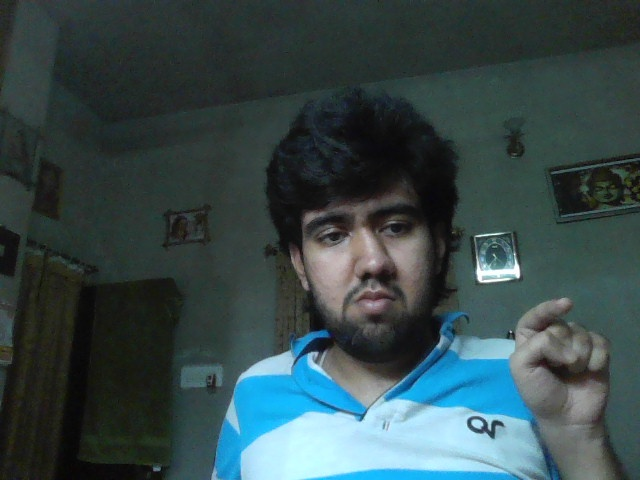You: (510, 297, 609, 416)
